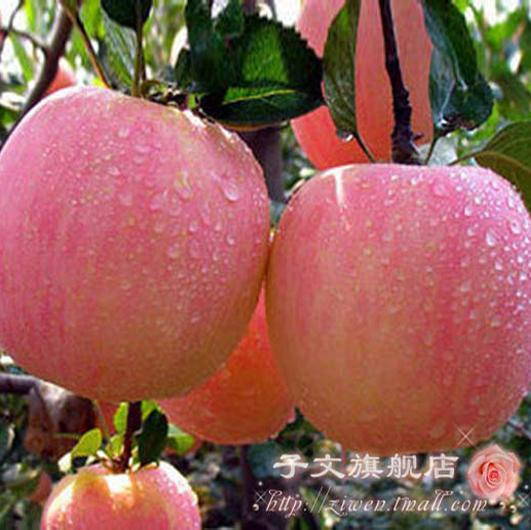apple: (1, 83, 269, 404), (265, 162, 531, 455), (40, 459, 201, 530)
